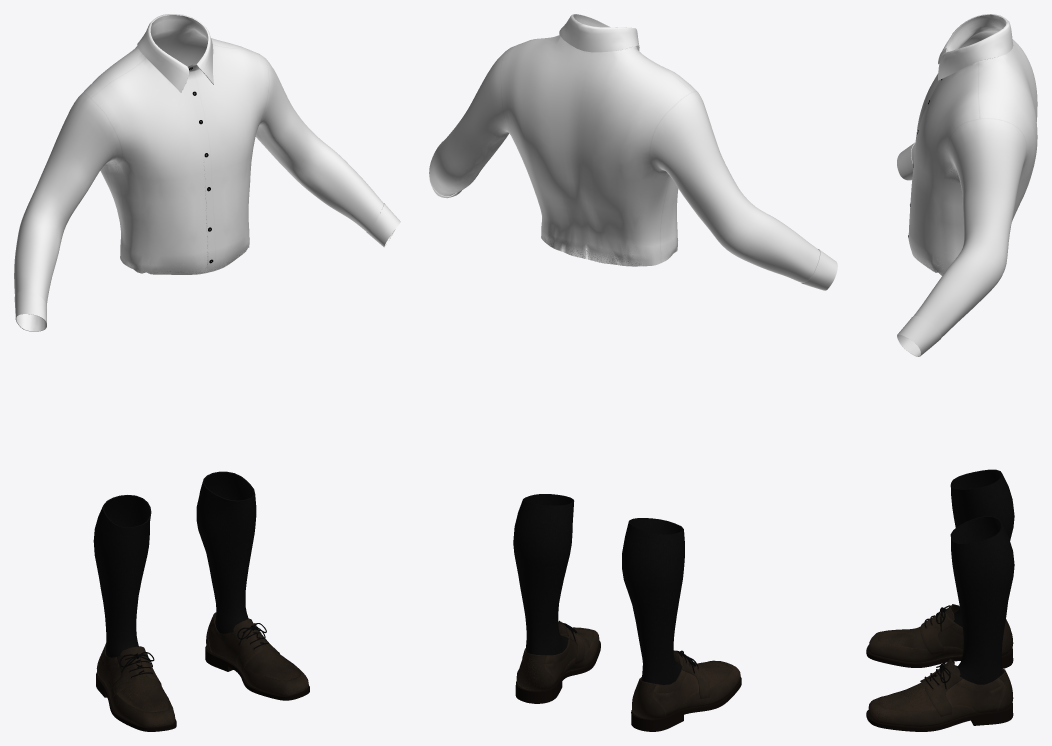
File: SM_CarlosSA_FixedClothing_0001.fbx
3 renders of one model, left to right at view 1: azimuth 30°, elevation 25°; view 2: azimuth 150°, elevation 25°; view 3: azimuth 270°, elevation 25°, orthographic. The views are drawn at different scales.
Parts seen in each view (by area): view 1: SM_CarlosSA_FixedClothing_0001.001; view 2: SM_CarlosSA_FixedClothing_0001.001; view 3: SM_CarlosSA_FixedClothing_0001.001.
Part boxes in pixels (bbox=[...]): SM_CarlosSA_FixedClothing_0001.001: bbox=[14, 14, 400, 731]; SM_CarlosSA_FixedClothing_0001.001: bbox=[429, 14, 837, 731]; SM_CarlosSA_FixedClothing_0001.001: bbox=[866, 14, 1037, 731].
Size of the model in its own units: 95.36 by 155 by 36.15.
